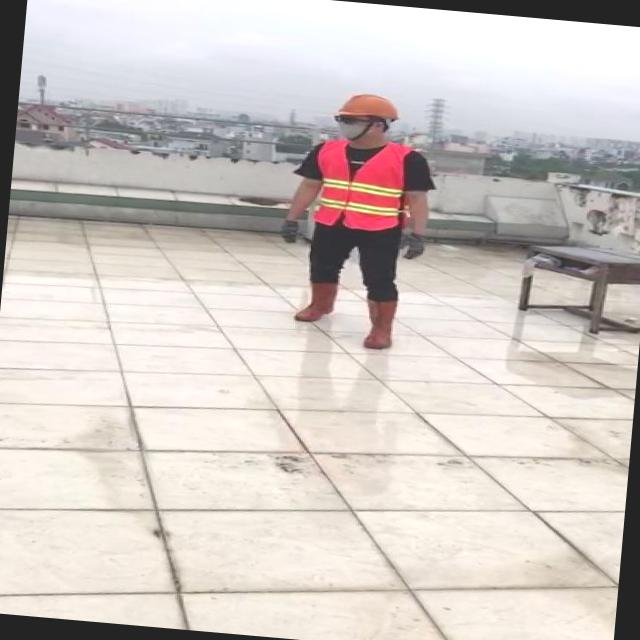boots: (358, 295, 402, 352), (295, 279, 337, 322)
gloves: (373, 216, 446, 278), (253, 205, 318, 242)
helmet: (332, 89, 406, 123)
vest: (307, 137, 410, 232)
